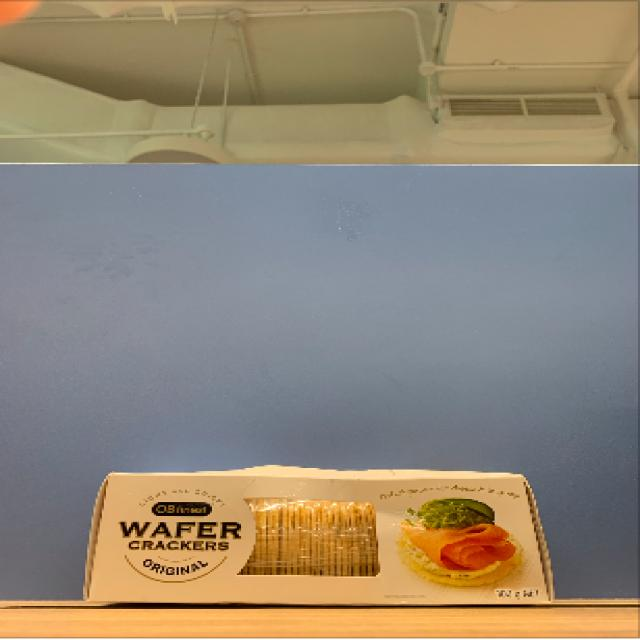object_name: (82, 473, 553, 606)
